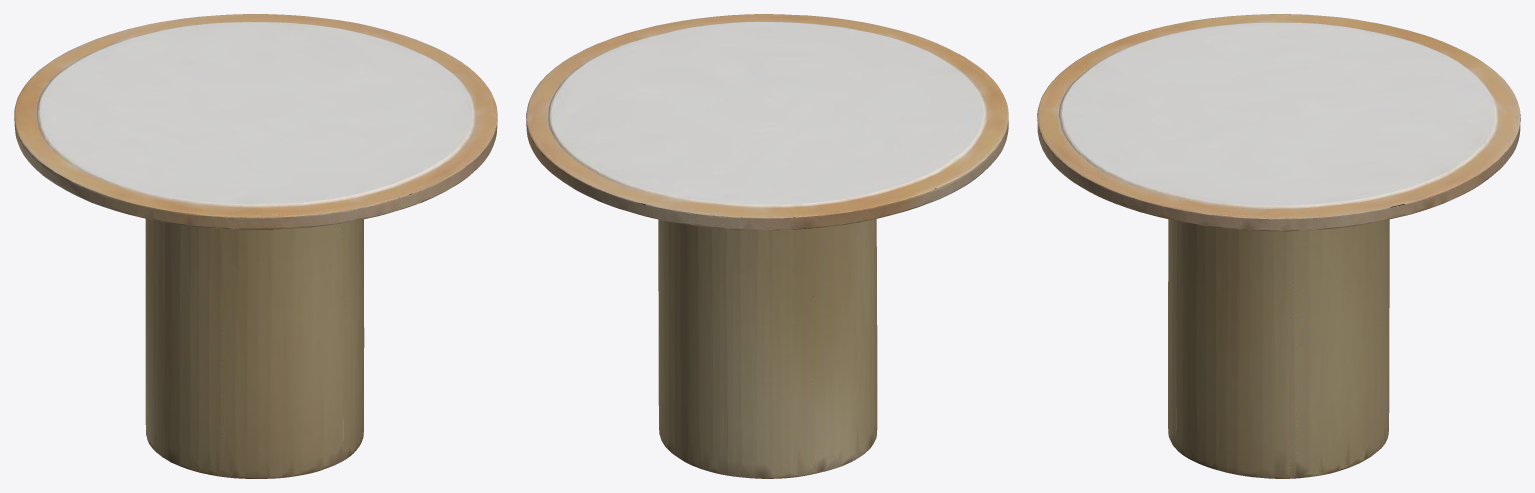
File: round_wooden_dining_table_with_white_top_000.glb
The picture shows the model from 3 angles, left to right: view 1: azimuth 30°, elevation 25°; view 2: azimuth 150°, elevation 25°; view 3: azimuth 270°, elevation 25°; orthographic projection.
Visible parts, largest first — view 1: phase2_final_round_wooden_dining_table_with_white_top_000.ob; view 2: phase2_final_round_wooden_dining_table_with_white_top_000.ob; view 3: phase2_final_round_wooden_dining_table_with_white_top_000.ob.
Part boxes in pixels (<box>): phase2_final_round_wooden_dining_table_with_white_top_000.ob: <box>14,14,497,478</box>; phase2_final_round_wooden_dining_table_with_white_top_000.ob: <box>526,14,1008,478</box>; phase2_final_round_wooden_dining_table_with_white_top_000.ob: <box>1037,14,1520,478</box>.
Bounding box in the file's own units: 0.7896 × 0.577 × 0.7893.
Materials: 1 (1 with a texture image).
